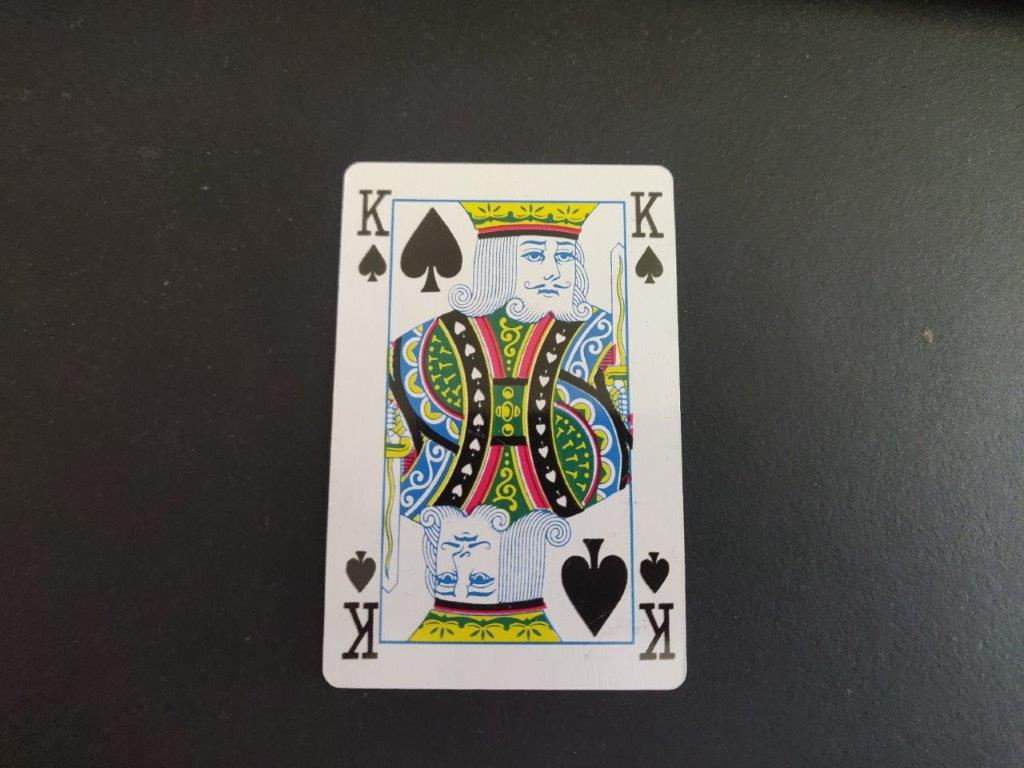KS: (624, 186, 672, 288), (352, 185, 398, 290)
